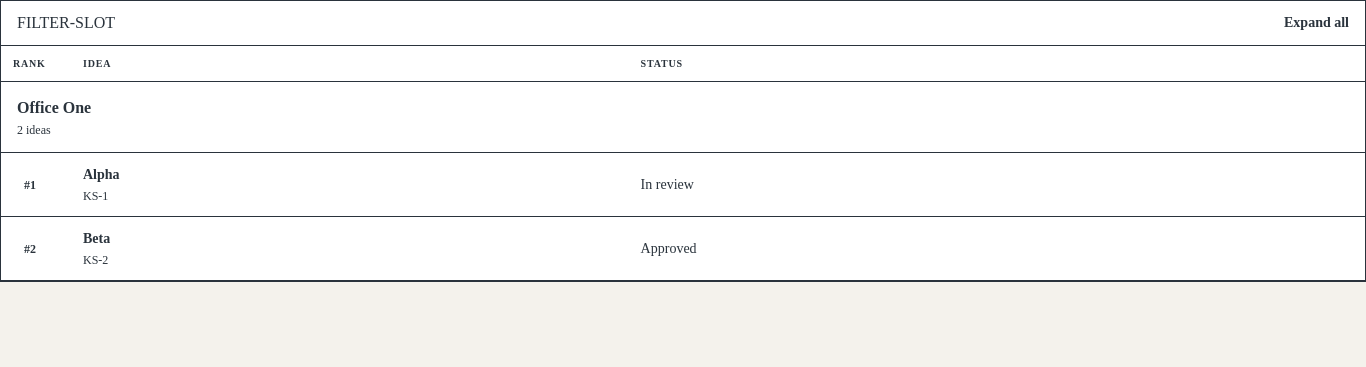
Test case: K5 RankedTable › open row has a limestone wash, bold title and no amber left rule
The image size is (1366, 367).
Click the row "#1 Alpha KS-1 In review" at (683, 184), box [1,152,1365,216]
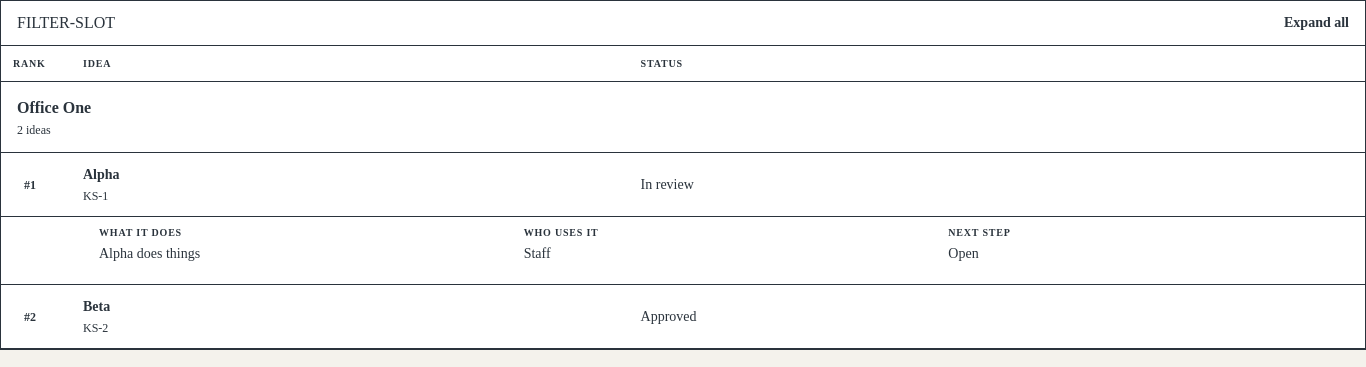
Expected: the text with class "font-bold" reads "Alpha", [83,167,120,182]
Now the row "#1 Alpha KS-1 In review" has class "bg-[var(--ks-limestone)]", box [1,152,1365,216]
